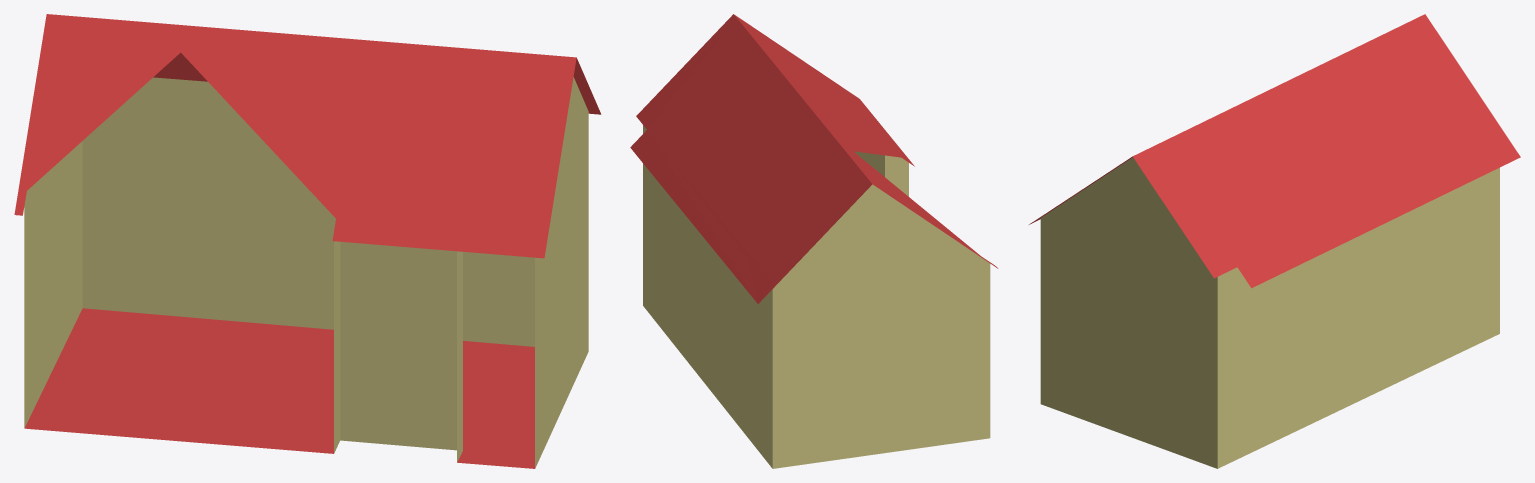
3 renders of one model, left to right at view 1: azimuth 30°, elevation 25°; view 2: azimuth 150°, elevation 25°; view 3: azimuth 270°, elevation 25°, orthographic. The views are drawn at different scales.
Bounding box in the file's own units: 25.68 × 25.4 × 16.29.
